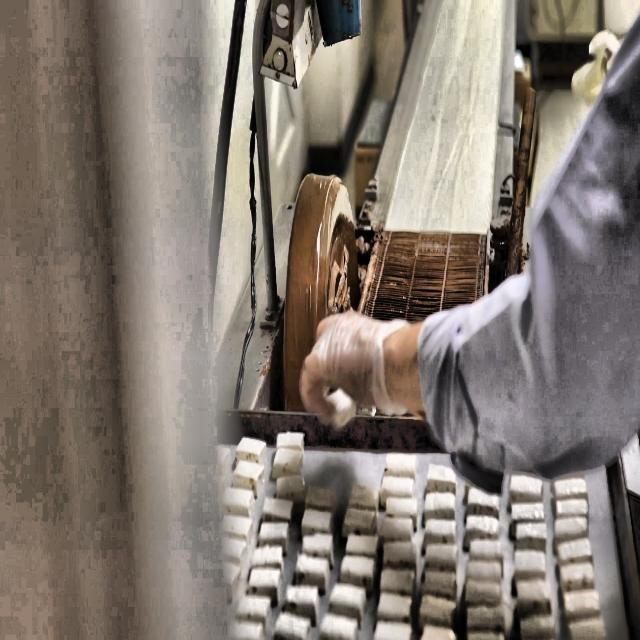gloved: (295, 286, 403, 466)
